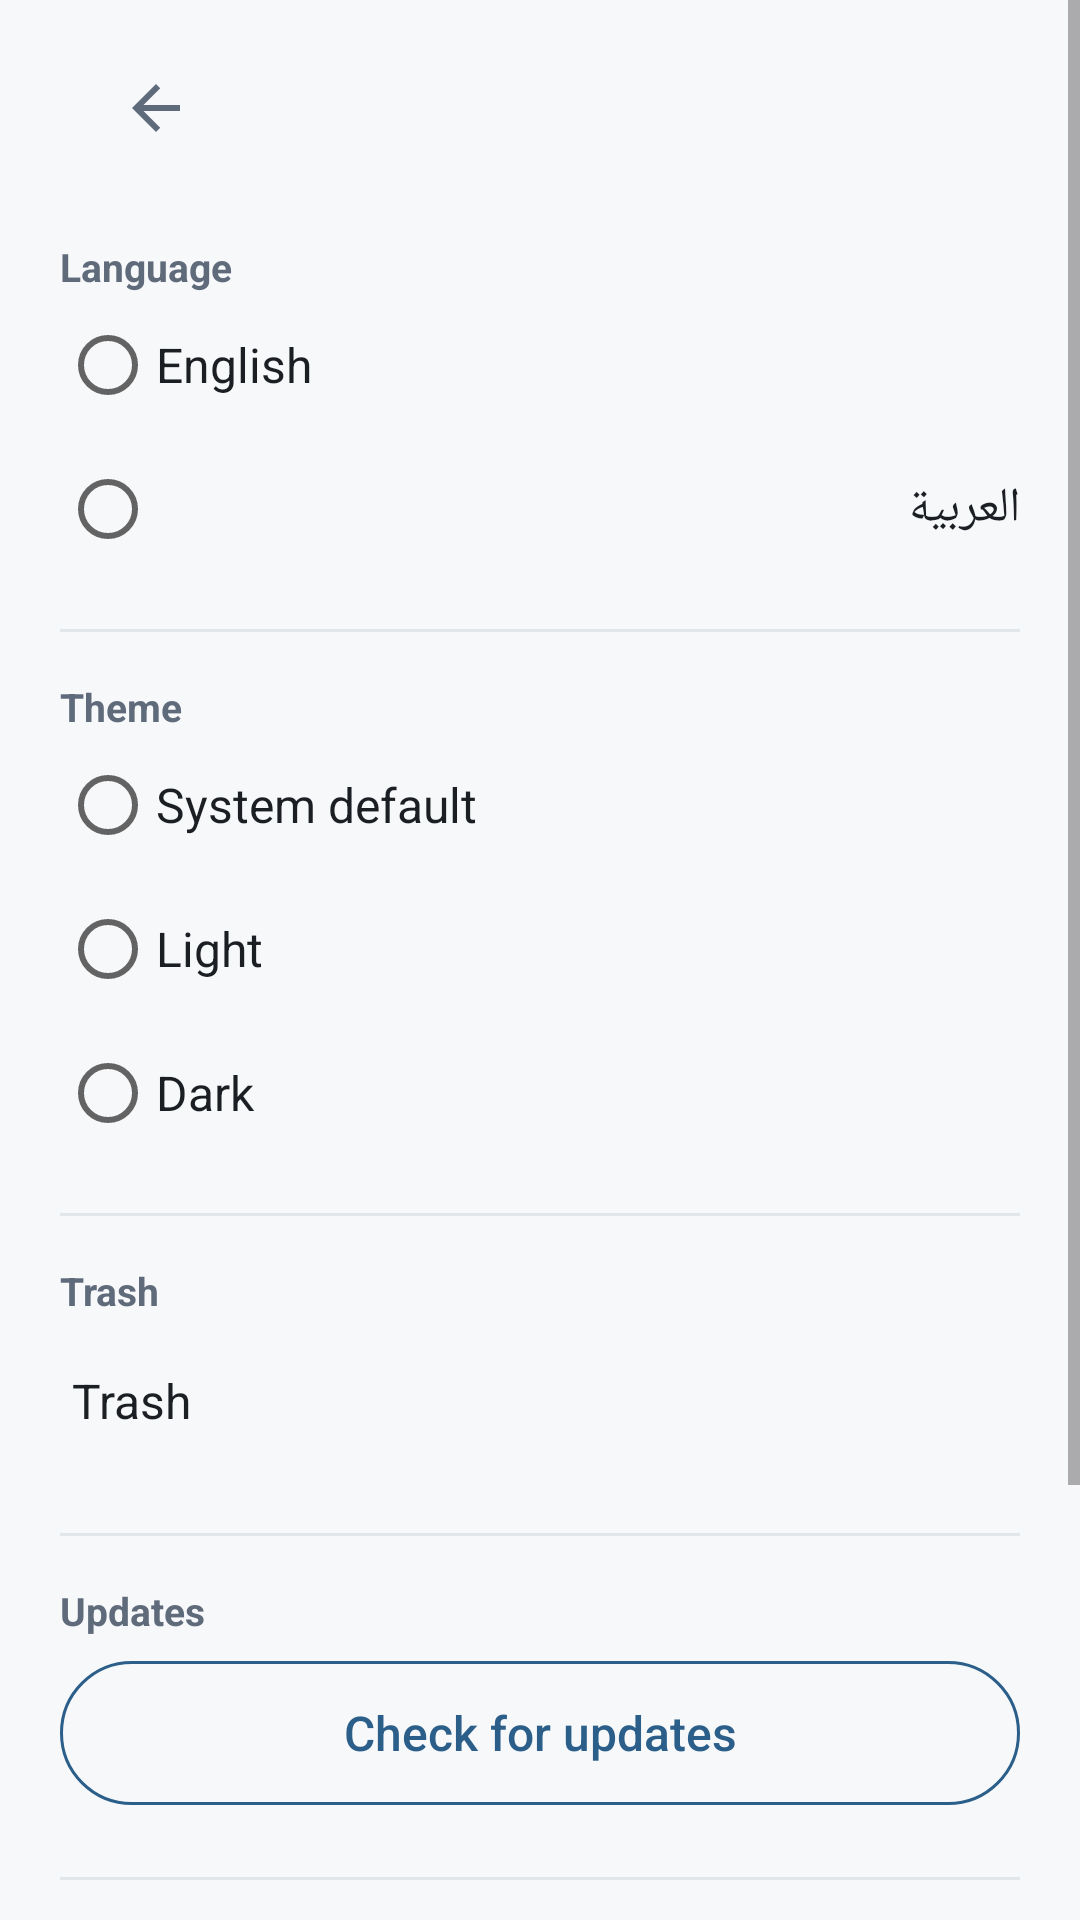

Icons on this 1080×1920 Android screen, each with the point to tap as (x=x, y=y):
Back: (x=156, y=108)
